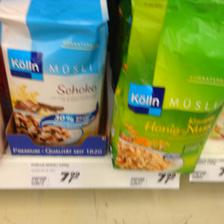Cerealien: (111, 0, 223, 170), (0, 1, 108, 144)
